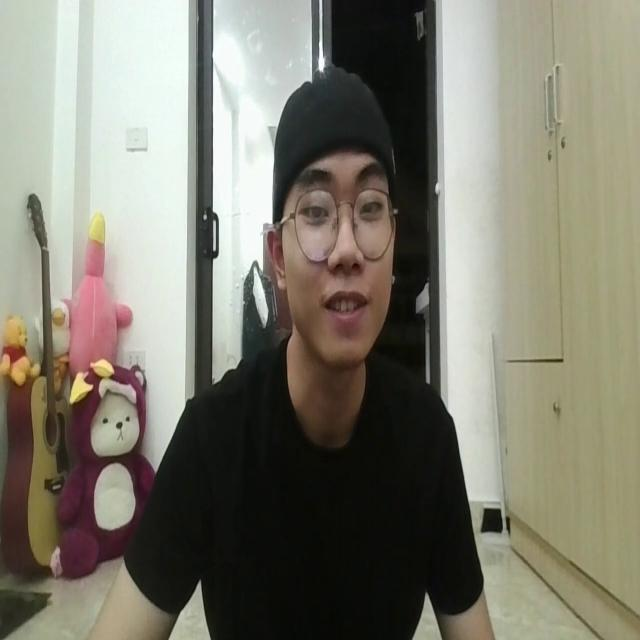student: (128, 63, 490, 640)
